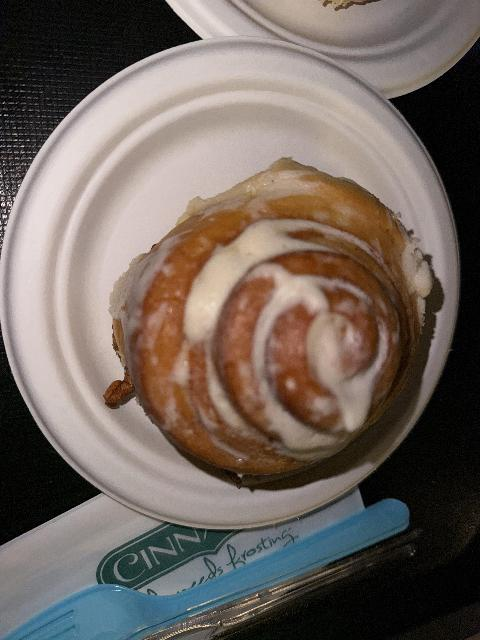Organik: (105, 173, 444, 487)
Plastik: (0, 494, 410, 640)
